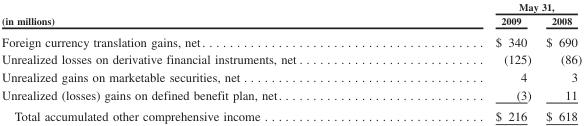table: (1, 0, 581, 122)
table column: (1, 0, 398, 122), (398, 0, 537, 122), (537, 0, 581, 122)
table column header: (1, 0, 581, 30)
table row: (1, 30, 581, 50), (1, 85, 581, 105), (1, 67, 581, 85), (1, 13, 581, 30), (1, 50, 581, 67), (1, 105, 581, 122), (1, 0, 581, 13)
table spanning cell: (1, 0, 398, 30), (398, 0, 581, 13)
